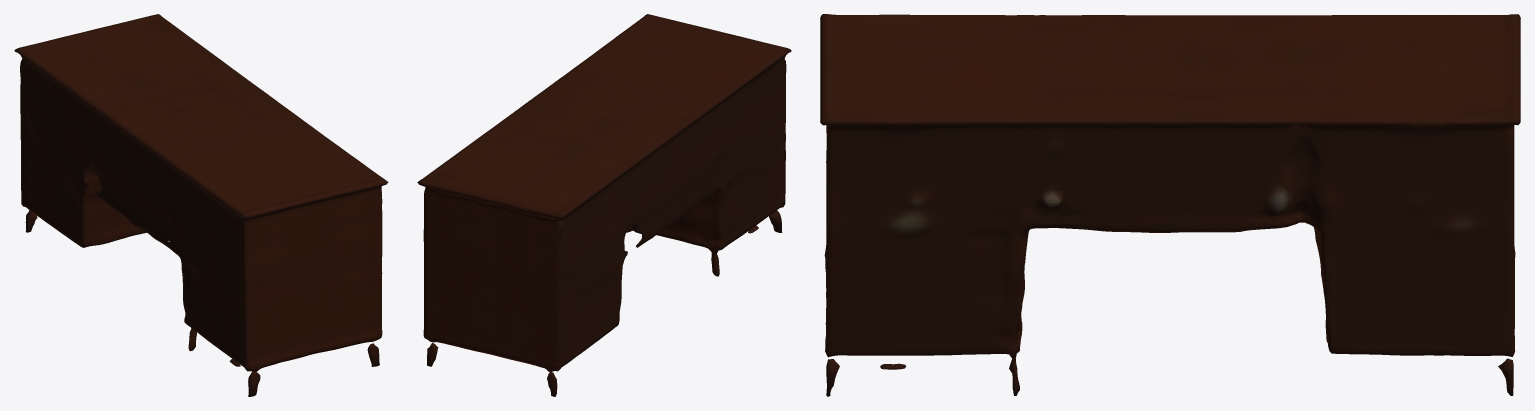
The model's file is Rectangular, light brown wood desk with hutch, dra.glb.
The picture shows the model from 3 angles, left to right: view 1: azimuth 30°, elevation 25°; view 2: azimuth 150°, elevation 25°; view 3: azimuth 270°, elevation 25°; orthographic projection. The views are drawn at different scales.
Visible parts, largest first — view 1: Rectangular, light brown wood desk with hutch, dra; view 2: Rectangular, light brown wood desk with hutch, dra; view 3: Rectangular, light brown wood desk with hutch, dra.
Part boxes in pixels (x1,y1,x2,y2): Rectangular, light brown wood desk with hutch, dra: [14, 14, 388, 396]; Rectangular, light brown wood desk with hutch, dra: [417, 14, 791, 396]; Rectangular, light brown wood desk with hutch, dra: [820, 14, 1520, 396].
Size of the model in its own units: 0.73 by 0.8849 by 1.98.
